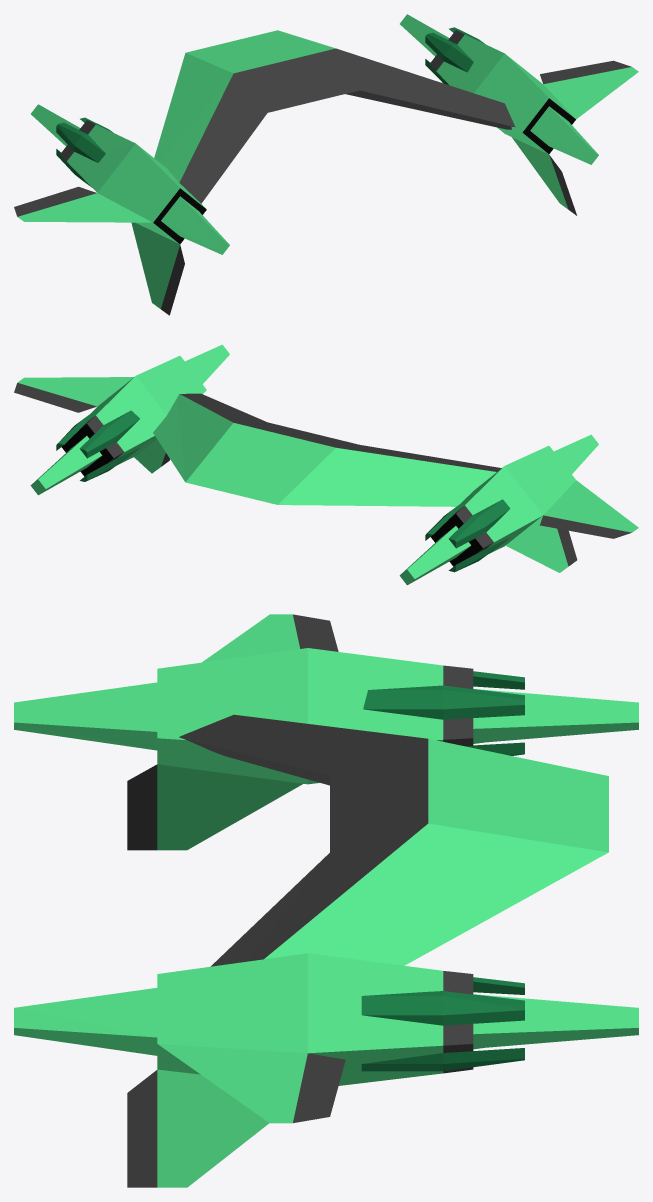
Rendered from wing.FBX.
3 renders of one model, top to bottom at view 1: azimuth 30°, elevation 25°; view 2: azimuth 150°, elevation 25°; view 3: azimuth 270°, elevation 25°, orthographic. The views are drawn at different scales.
Visible parts, largest first — view 1: VIFS002, VIFS001, VIFS003, VIFS004; view 2: VIFS002, VIFS001, VIFS003, VIFS004; view 3: VIFS002, VIFS001, VIFS003.
Boxes of the visible parts, <box> form: VIFS002: <box>18,14,638,308</box>; VIFS001: <box>14,30,631,315</box>; VIFS003: <box>56,27,484,187</box>; VIFS004: <box>153,98,575,243</box>; VIFS002: <box>17,344,638,585</box>; VIFS001: <box>14,383,631,566</box>; VIFS003: <box>56,403,510,572</box>; VIFS004: <box>61,424,482,566</box>; VIFS002: <box>14,614,638,1187</box>; VIFS001: <box>127,614,473,1187</box>; VIFS003: <box>361,671,524,1071</box>.
Bounding box in the file's own units: 1.68 × 0.366 × 0.872.
